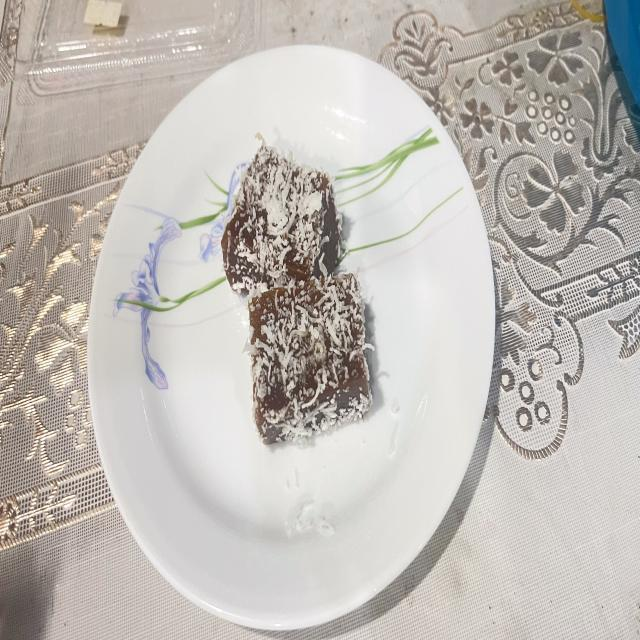kaswi: (249, 273, 371, 444), (221, 144, 341, 293)
